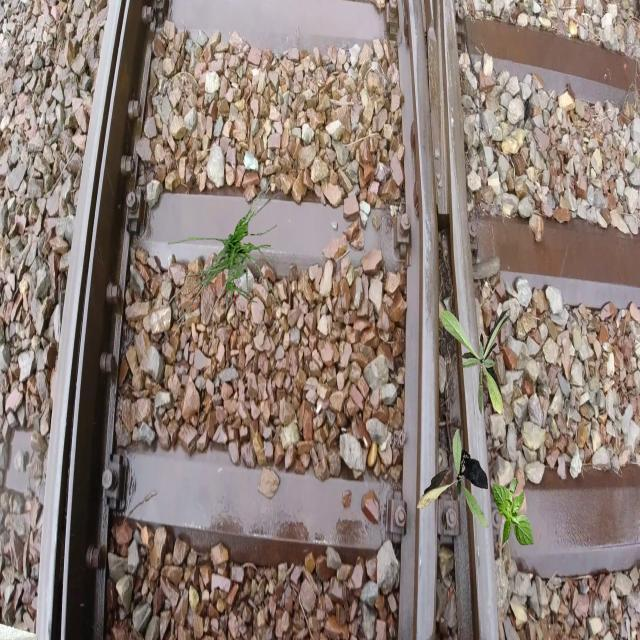Plant: (166, 175, 284, 338), (440, 308, 512, 416), (417, 428, 488, 528), (493, 477, 534, 548)
